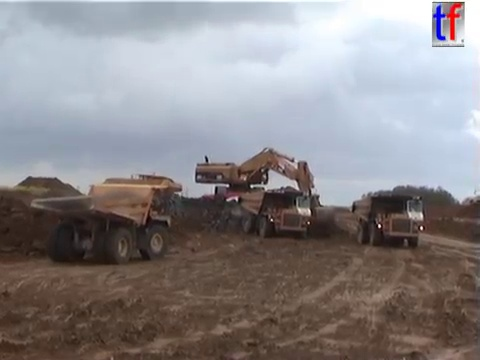excavator: (192, 145, 337, 233), (200, 188, 286, 214)
truck: (28, 176, 179, 265), (237, 187, 316, 239), (349, 194, 425, 248), (125, 172, 183, 204)
